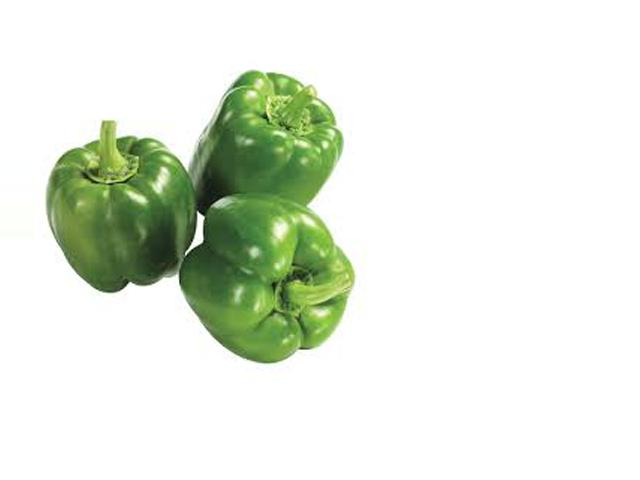bell_pepper: (179, 189, 367, 377)
